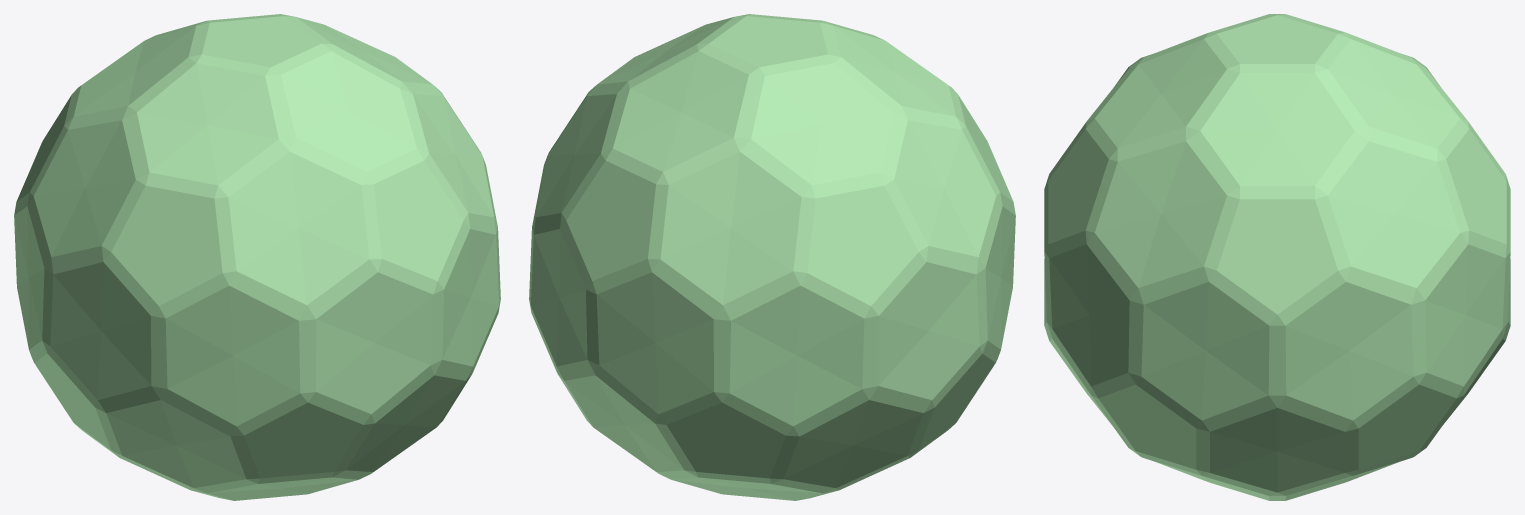
The model's file is crystal_star2_test.fbx.
3 renders of one model, left to right at view 1: azimuth 30°, elevation 25°; view 2: azimuth 150°, elevation 25°; view 3: azimuth 270°, elevation 25°, orthographic.
Parts seen in each view (by area): view 1: GeoSphere004; view 2: GeoSphere004; view 3: GeoSphere004.
Part boxes in pixels (x1=…): GeoSphere004: x1=14, y1=14, x2=500, y2=500; GeoSphere004: x1=529, y1=14, x2=1015, y2=500; GeoSphere004: x1=1044, y1=14, x2=1510, y2=500.
Size of the model in its own units: 1.33 by 1.31 by 1.28.
